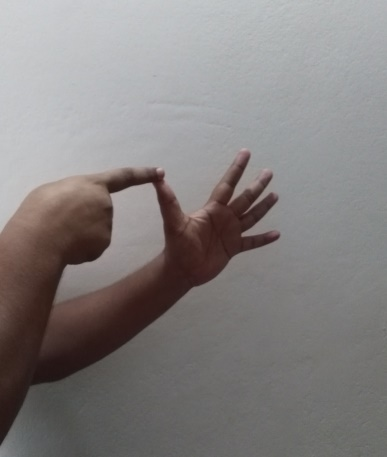a: (31, 147, 286, 281)
